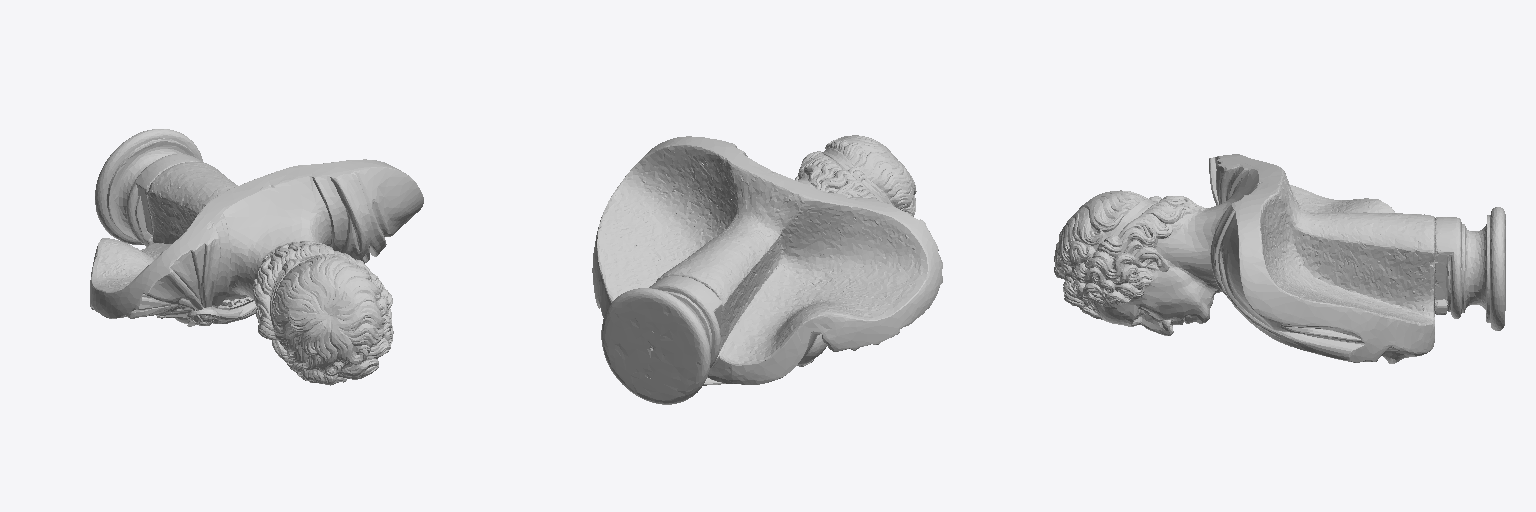
File: tinker 1.obj
3 views of the same model, side by side, from view 1: azimuth 30°, elevation 25°; view 2: azimuth 150°, elevation 25°; view 3: azimuth 270°, elevation 25° (orthographic).
Parts seen in each view (by area): view 1: obj_0; view 2: obj_0; view 3: obj_0.
Boxes of the visible parts, box(x1,y1,x2,y2) form: obj_0: box(90, 129, 423, 385); obj_0: box(592, 135, 942, 404); obj_0: box(1054, 154, 1505, 363).
Bounding box in the file's own units: 63.76 × 33 × 80.63.